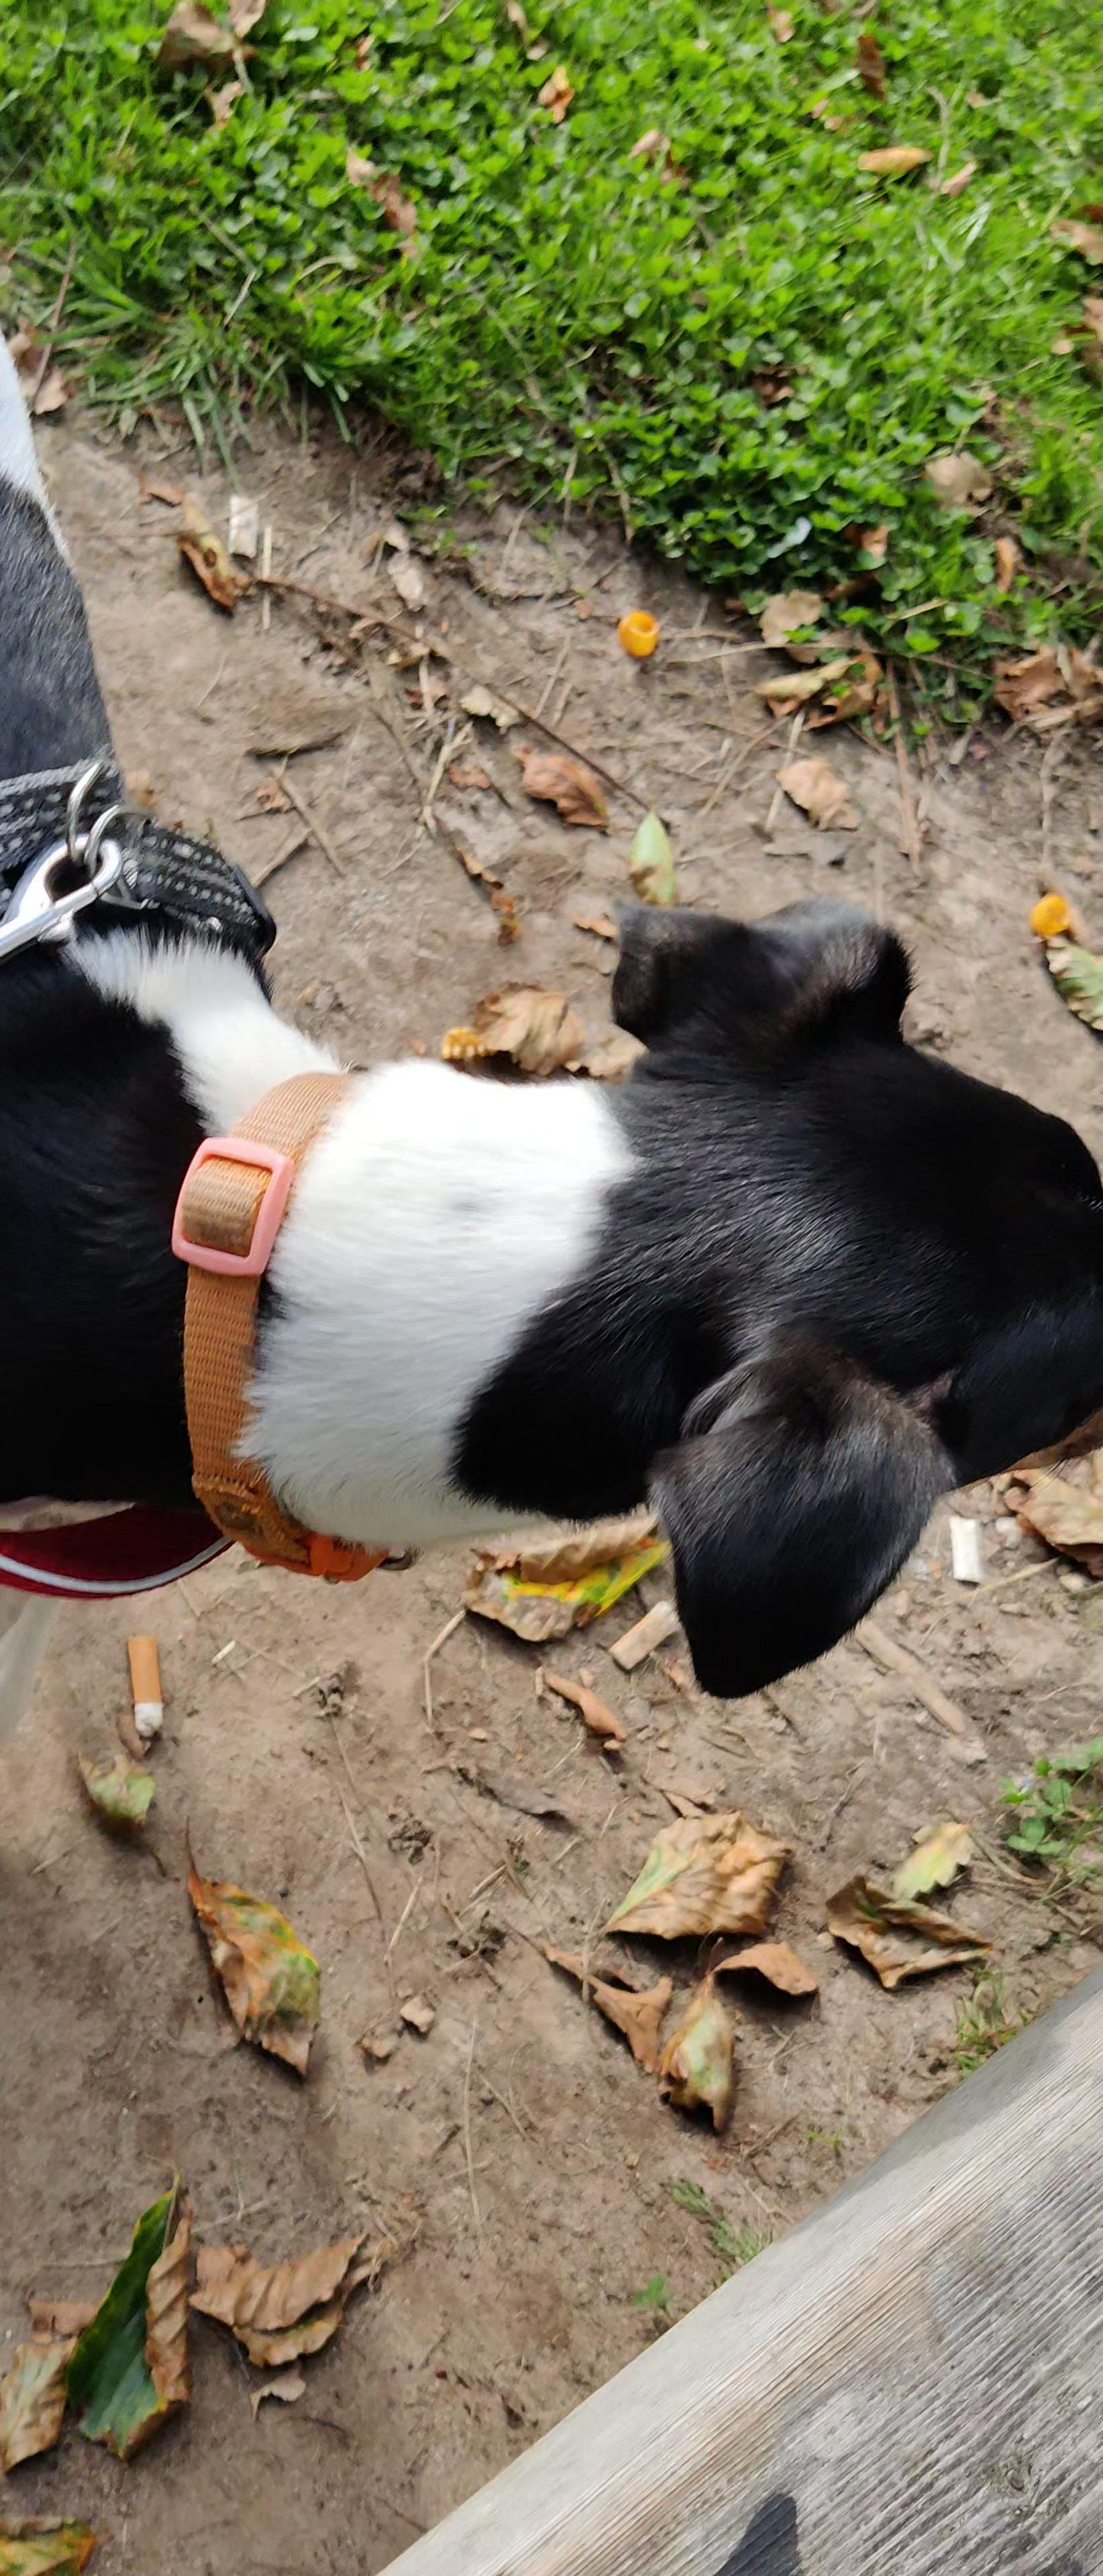Dog: (0, 260, 1103, 1713)
